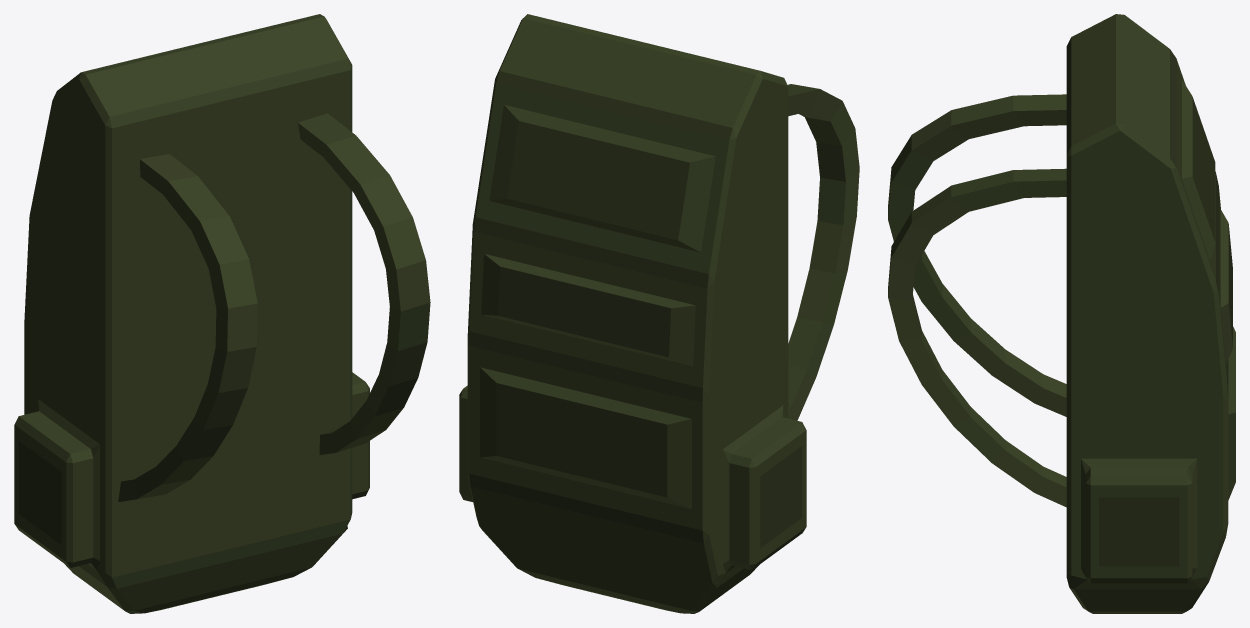
File: campingpack.fbx
3 views of the same model, side by side, from view 1: azimuth 30°, elevation 25°; view 2: azimuth 150°, elevation 25°; view 3: azimuth 270°, elevation 25° (orthographic). The views are drawn at different scales.
Visible parts, largest first — view 1: campingbag; view 2: campingbag; view 3: campingbag.
Boxes of the visible parts, x1=… form: campingbag: x1=14, y1=14, x2=430, y2=613; campingbag: x1=459, y1=14, x2=859, y2=613; campingbag: x1=888, y1=14, x2=1235, y2=613.
Size of the model in its own units: 0.6898 by 1.19 by 0.7281.
